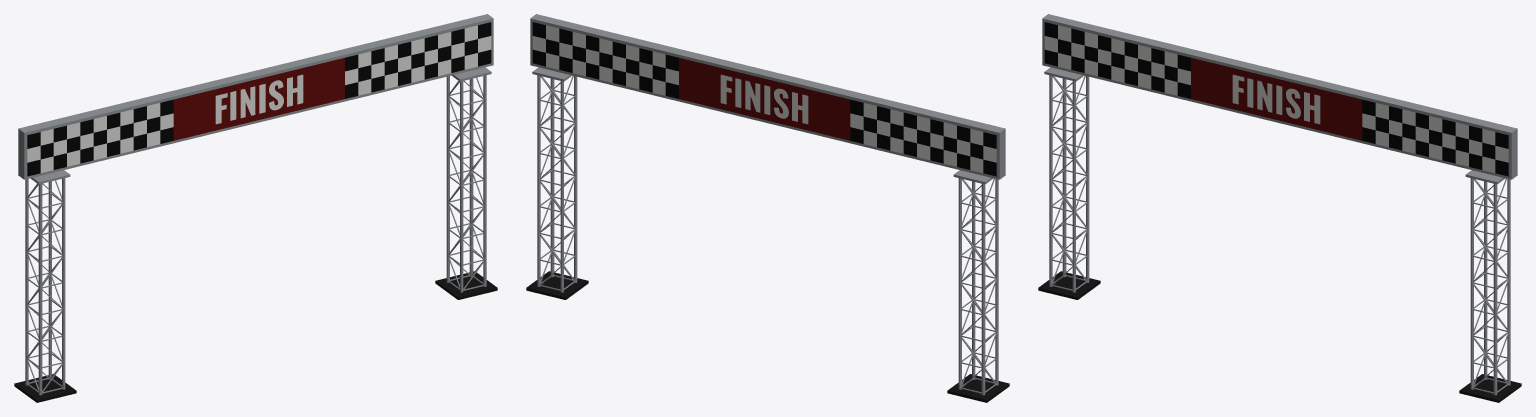
The model's file is gate_finish.dae.
The picture shows the model from 3 angles, left to right: view 1: azimuth 30°, elevation 25°; view 2: azimuth 150°, elevation 25°; view 3: azimuth 330°, elevation 25°; orthographic projection.
Visible parts, largest first — view 1: gate_finish; view 2: gate_finish; view 3: gate_finish.
Boxes of the visible parts, x1=… form: gate_finish: x1=14, y1=14, x2=497, y2=402; gate_finish: x1=526, y1=14, x2=1009, y2=402; gate_finish: x1=1038, y1=14, x2=1521, y2=402.
Bounding box in the file's own units: 10.7 × 0.9 × 5.77.
